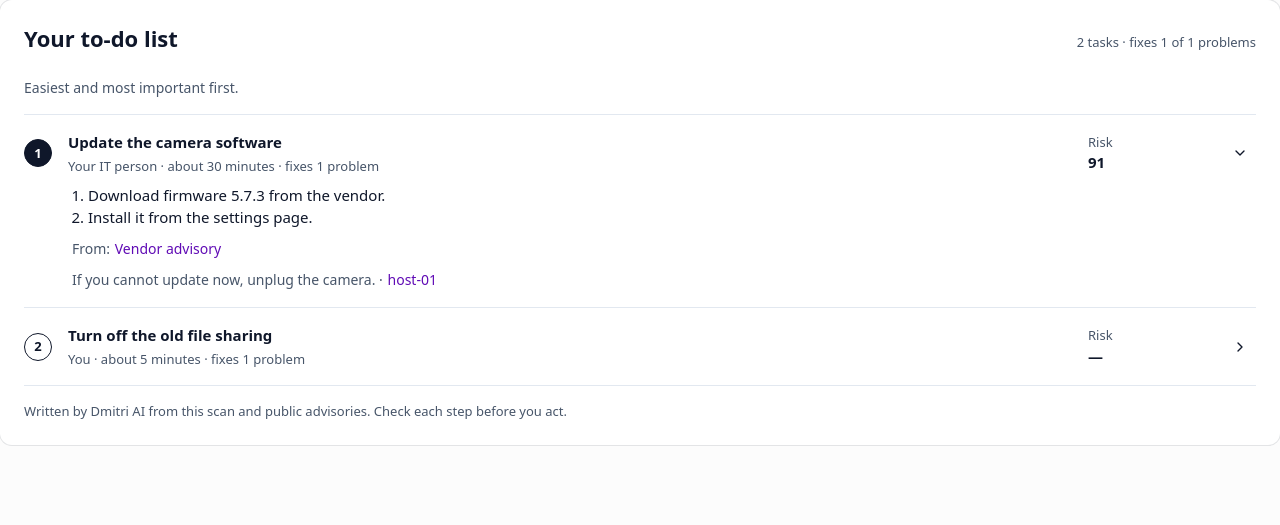
TodoList › draws the tasks with who, time, risk and the first task open
This screenshot has width=1280, height=525.
expect the text with test id "todo-count" reads "2 tasks · fixes 1 of 1 problems": met, box [1077, 33, 1256, 51]
expect the list item with test id "todo-task-1" shows "Update the camera software": met, box [68, 132, 282, 152]
Step 1. Click the button with test id "todo-task-toggle-2" → {"x": 1240, "y": 347}, box [1224, 331, 1256, 363]
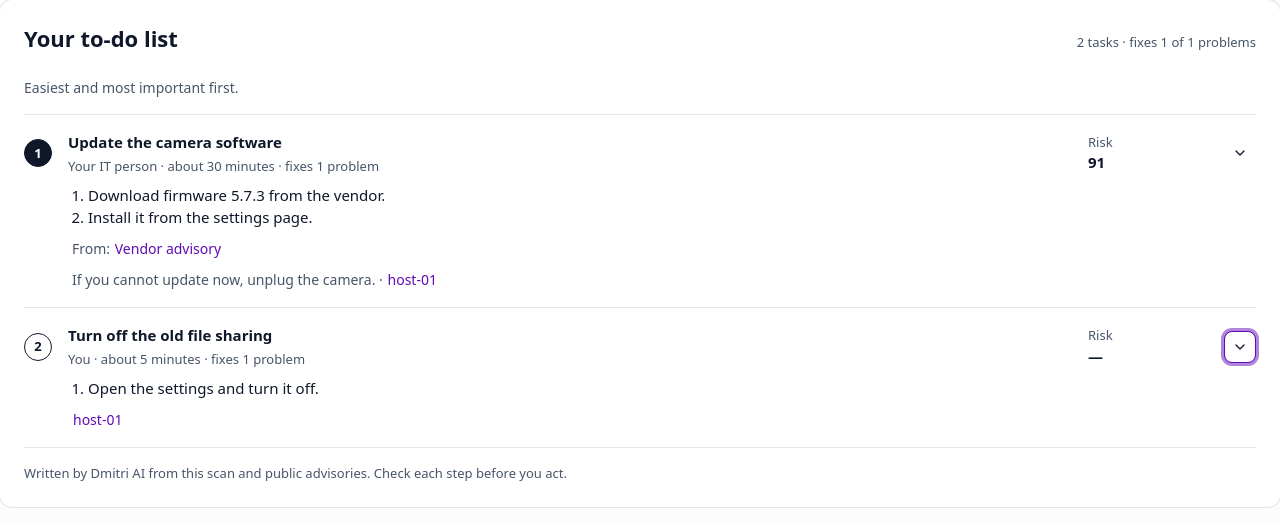
expect the list item with test id "todo-task-2" shows "—": met, box [1088, 346, 1103, 366]
expect the button with test id "todo-task-toggle-2" is expanded: met, box [1224, 331, 1256, 363]
expect the list item "Open the settings and turn it off." is shown: met, box [88, 378, 319, 398]
